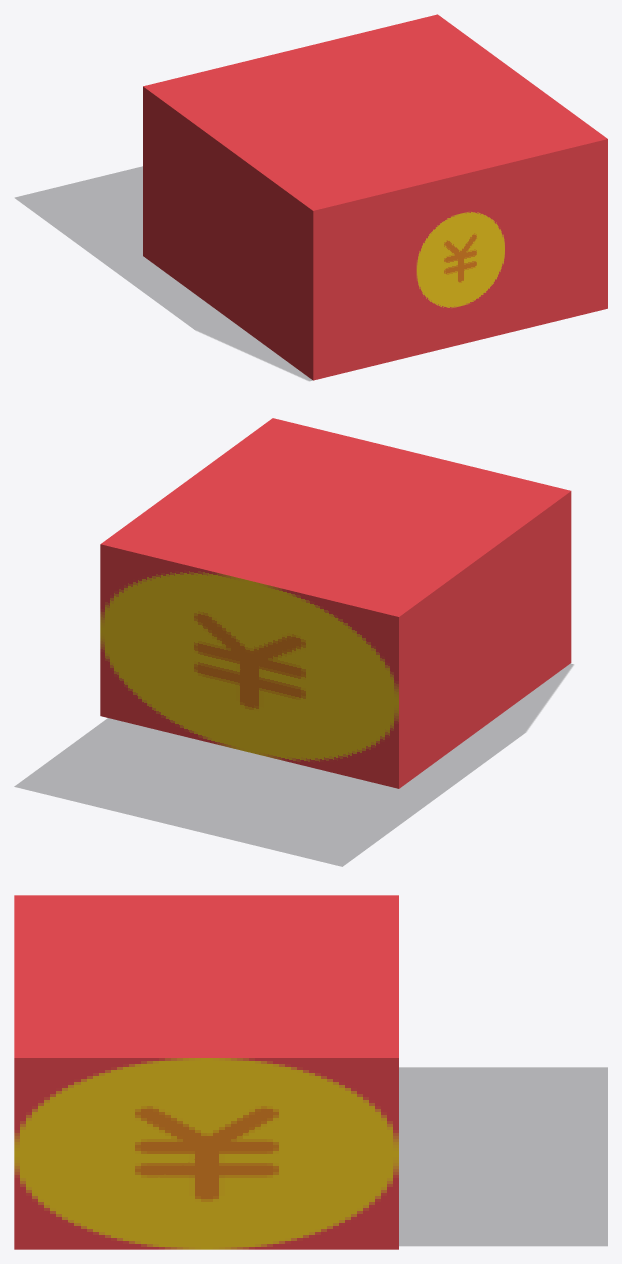
The model's file is block_13.glb.
The picture shows the model from 3 angles, top to bottom: view 1: azimuth 30°, elevation 25°; view 2: azimuth 150°, elevation 25°; view 3: azimuth 270°, elevation 25°; orthographic projection. The views are drawn at different scales.
Parts seen in each view (by area): view 1: hitObj, block; view 2: hitObj, block; view 3: hitObj, block.
Boxes of the visible parts, bbox=[...] form: hitObj: bbox=[143, 14, 607, 380]; block: bbox=[15, 166, 312, 380]; hitObj: bbox=[100, 418, 571, 788]; block: bbox=[14, 664, 573, 866]; hitObj: bbox=[14, 895, 398, 1249]; block: bbox=[399, 1067, 607, 1245].
Size of the model in its own units: 11.24 by 5.51 by 15.44.
2 materials, 2 textured.
